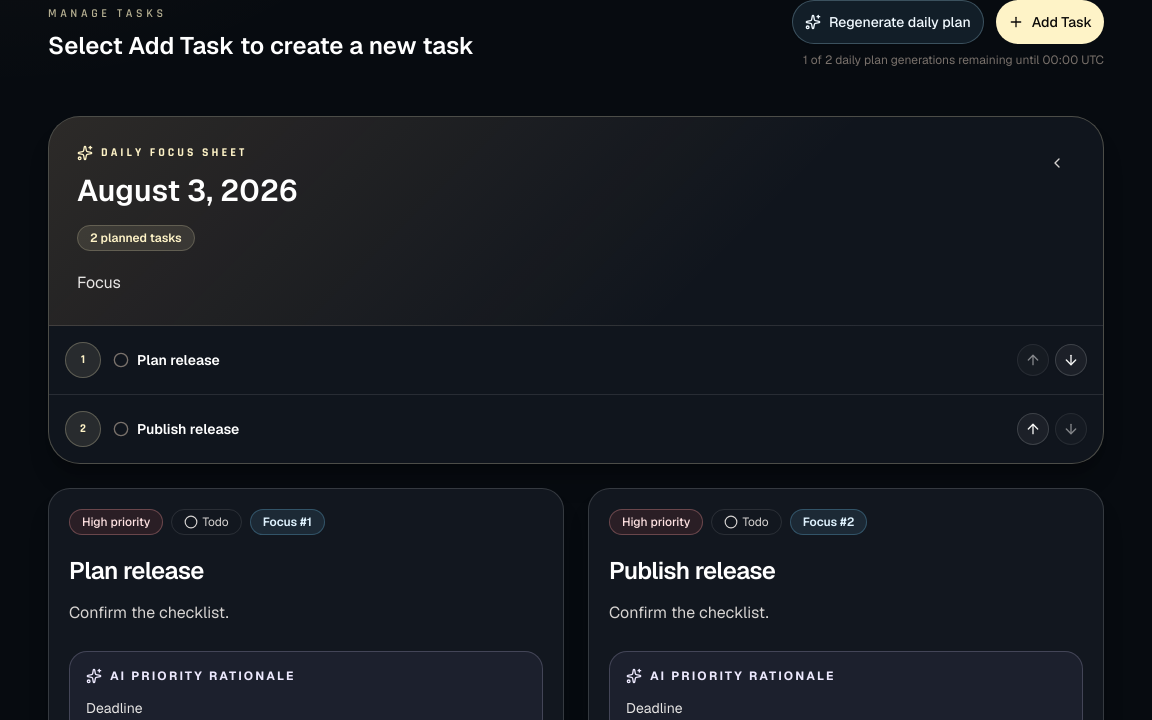
Test: dashboard lifecycle failure state › retains the committed daily-plan order when reorder fails
The image size is (1152, 720).
(page scrolled)
Click the button named "Move Plan release down" at {"x": 1071, "y": 360}, box [1055, 344, 1087, 376]
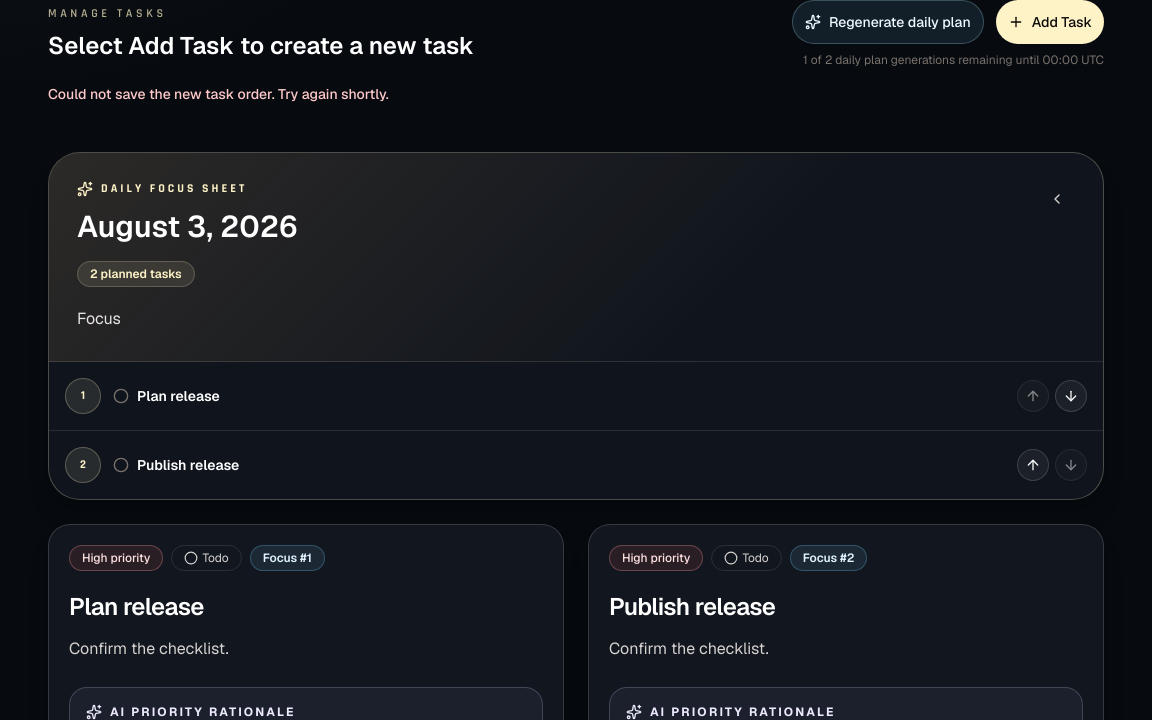
Now the message reads "Could not save the new task order. Try again shortly.", box [48, 85, 389, 103]
